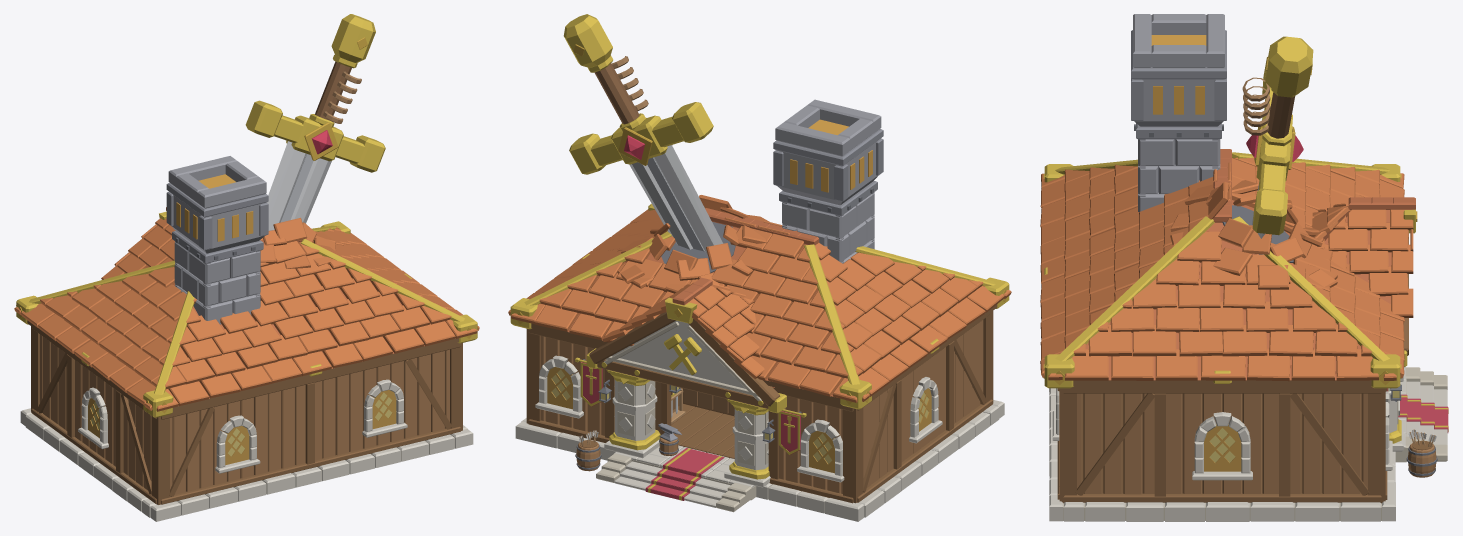
The model's file is weapon_shop_roblox.glb.
3 renders of one model, left to right at view 1: azimuth 30°, elevation 25°; view 2: azimuth 150°, elevation 25°; view 3: azimuth 270°, elevation 25°, orthographic. The views are drawn at different scales.
Parts seen in each view (by area): view 1: Body, Roof, Landmark, Glow_ff8a1c, Glow_ffd249; view 2: Body, Roof, Landmark, Glow_ff8a1c, Glow_ffd249; view 3: Roof, Body, Landmark, Glow_ff8a1c, Glow_ffd249.
Boxes of the visible parts, x1,y1,x2,y2 form: Body: [20, 207, 473, 521]; Roof: [14, 221, 479, 417]; Landmark: [166, 14, 385, 324]; Glow_ff8a1c: [176, 174, 253, 241]; Glow_ffd249: [91, 392, 392, 456]; Body: [515, 277, 1004, 521]; Roof: [508, 204, 1011, 409]; Landmark: [563, 14, 883, 293]; Glow_ff8a1c: [790, 119, 872, 192]; Glow_ffd249: [551, 369, 928, 463]; Roof: [1040, 149, 1404, 388]; Body: [1049, 197, 1448, 521]; Landmark: [1131, 14, 1337, 289]; Glow_ff8a1c: [1151, 35, 1206, 114]; Glow_ffd249: [1209, 391, 1399, 462].
Size of the model in its own units: 39.32 by 41.59 by 32.82.
